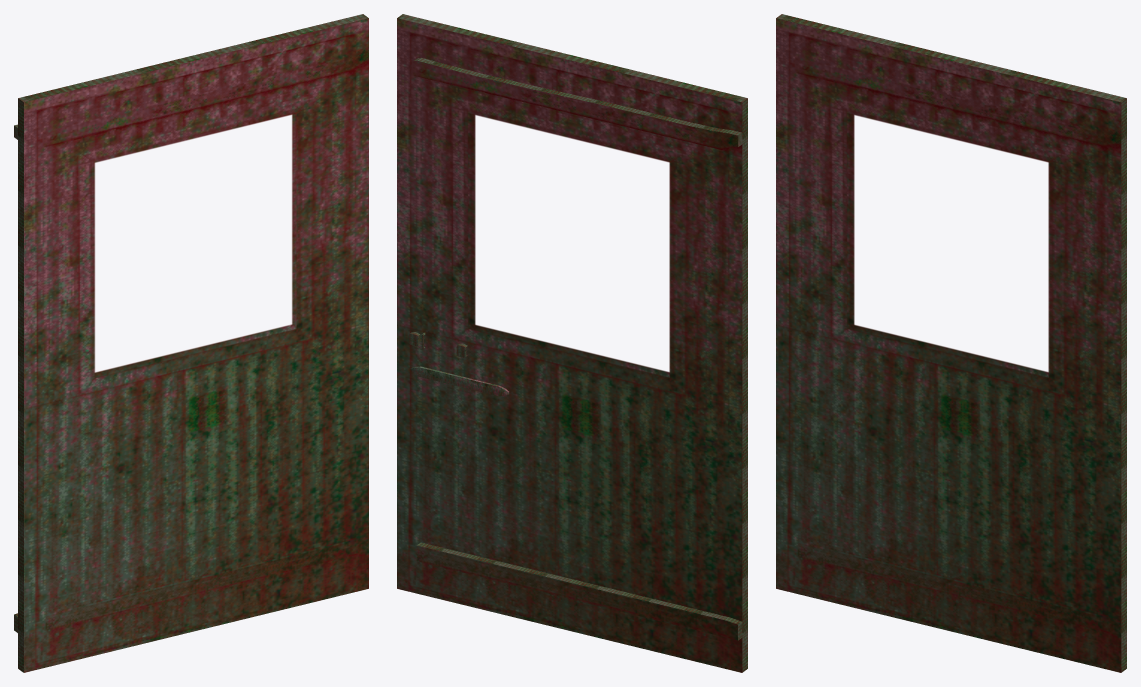
Rendered from door_15.glb.
3 renders of one model, left to right at view 1: azimuth 30°, elevation 25°; view 2: azimuth 150°, elevation 25°; view 3: azimuth 330°, elevation 25°, orthographic.
Visible parts, largest first — view 1: polySurface37.001; view 2: polySurface37.001; view 3: polySurface37.001.
Boxes of the visible parts, x1,y1,x2,y2 form: polySurface37.001: [14, 14, 368, 672]; polySurface37.001: [397, 14, 747, 672]; polySurface37.001: [776, 14, 1126, 672].
Size of the model in its own units: 1.33 by 2.1 by 0.0655.
1 material, 1 textured.
